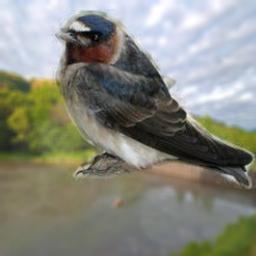Swallow: (52, 9, 256, 189)
